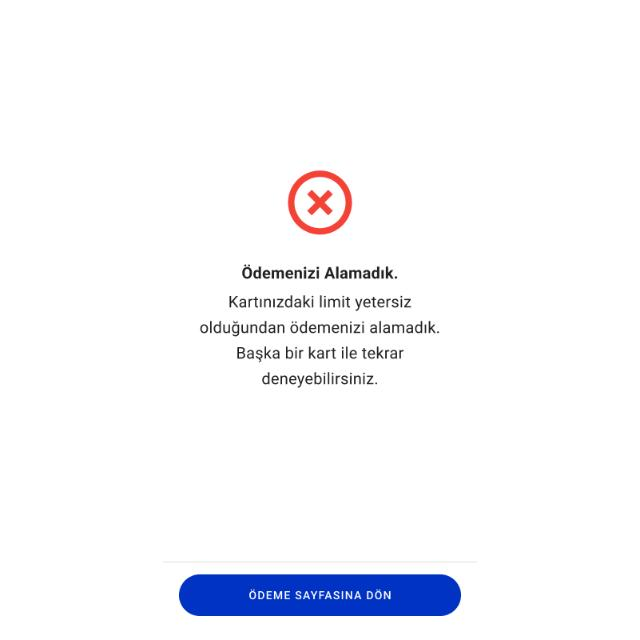QLabel: (196, 290, 442, 394), (234, 260, 402, 286), (248, 588, 392, 602)
VBtn: (180, 574, 462, 616)
VFooter: (163, 562, 477, 640)
VImg: (285, 168, 355, 236)
